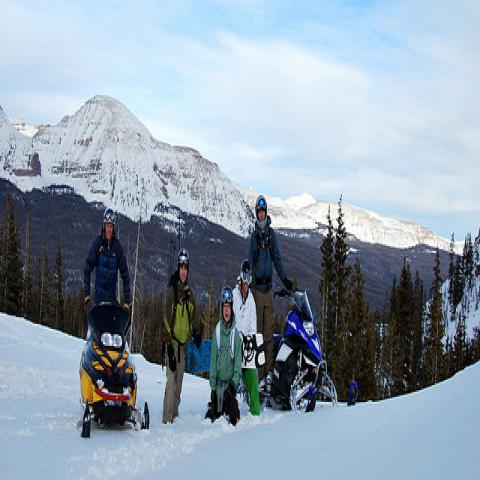motorcycle: (79, 303, 150, 437), (271, 283, 328, 410)
